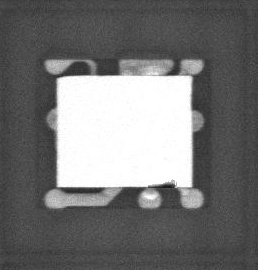DIE_BROKEN: (146, 177, 179, 188)
